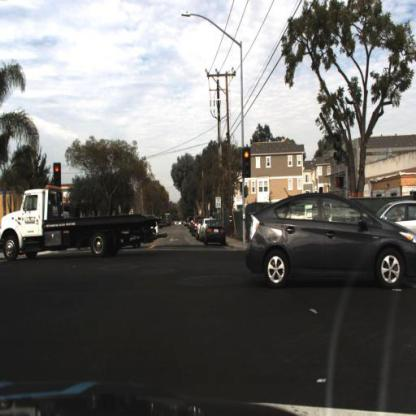car: (246, 194, 416, 291), (376, 198, 416, 253), (205, 220, 227, 249)
trafficLight: (244, 147, 254, 177)
trafficLight-Red: (54, 162, 63, 188)
truck: (1, 186, 169, 263)
